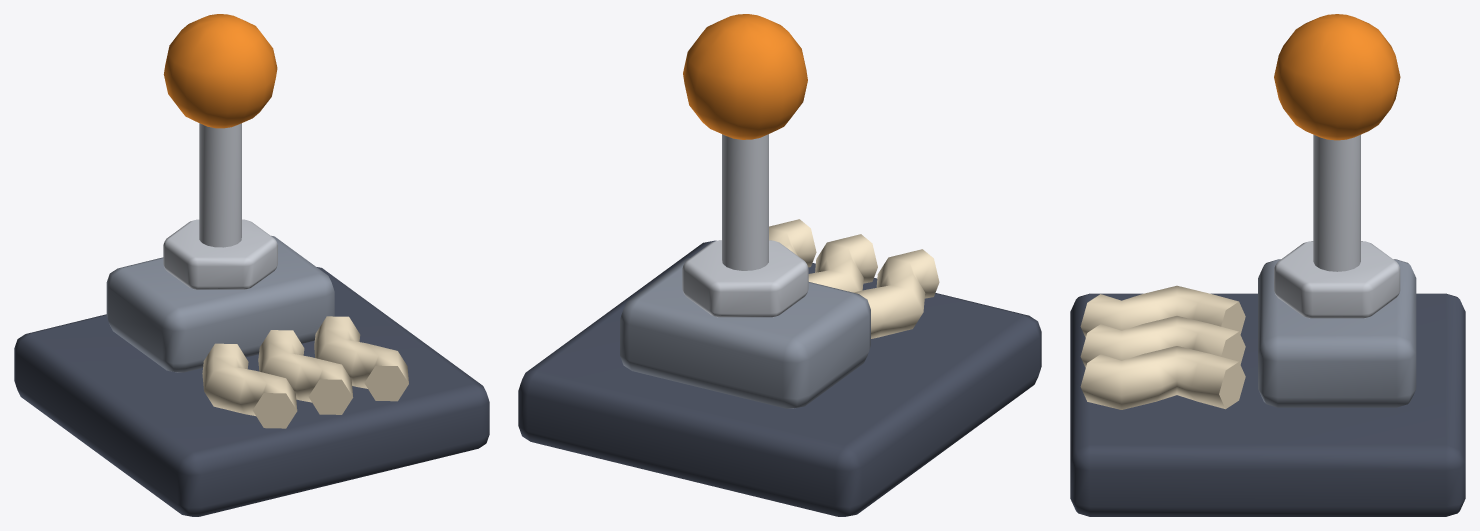
The model's file is Ctrl_Toggle_Heater.glb.
3 views of the same model, side by side, from view 1: azimuth 30°, elevation 25°; view 2: azimuth 150°, elevation 25°; view 3: azimuth 270°, elevation 25° (orthographic). The views are drawn at different scales.
Visible parts, largest first — view 1: Ctrl_Toggle_Heater.Base, Ctrl_Toggle_Heater.Housing, Ctrl_Toggle_Heater.Move_Lever, Ctrl_Toggle_Heater.Icon, Ctrl_Toggle_Heater.Nut; view 2: Ctrl_Toggle_Heater.Base, Ctrl_Toggle_Heater.Housing, Ctrl_Toggle_Heater.Move_Lever, Ctrl_Toggle_Heater.Icon, Ctrl_Toggle_Heater.Nut; view 3: Ctrl_Toggle_Heater.Base, Ctrl_Toggle_Heater.Move_Lever, Ctrl_Toggle_Heater.Icon, Ctrl_Toggle_Heater.Housing, Ctrl_Toggle_Heater.Nut.
Part boxes in pixels (x1,y1,x2,y2): Ctrl_Toggle_Heater.Base: (14, 267, 489, 516); Ctrl_Toggle_Heater.Housing: (106, 235, 334, 372); Ctrl_Toggle_Heater.Move_Lever: (163, 14, 277, 247); Ctrl_Toggle_Heater.Icon: (202, 316, 408, 428); Ctrl_Toggle_Heater.Nut: (163, 219, 277, 289); Ctrl_Toggle_Heater.Base: (518, 240, 1041, 516); Ctrl_Toggle_Heater.Housing: (620, 258, 870, 408); Ctrl_Toggle_Heater.Move_Lever: (683, 14, 807, 270); Ctrl_Toggle_Heater.Icon: (769, 219, 939, 338); Ctrl_Toggle_Heater.Nut: (682, 240, 808, 317); Ctrl_Toggle_Heater.Base: (1070, 293, 1465, 516); Ctrl_Toggle_Heater.Move_Lever: (1274, 14, 1400, 271); Ctrl_Toggle_Heater.Icon: (1080, 285, 1245, 409); Ctrl_Toggle_Heater.Housing: (1258, 259, 1416, 407); Ctrl_Toggle_Heater.Nut: (1274, 241, 1400, 318).
Size of the model in its own units: 0.2 by 0.235 by 0.2.
1 material, 1 textured.
